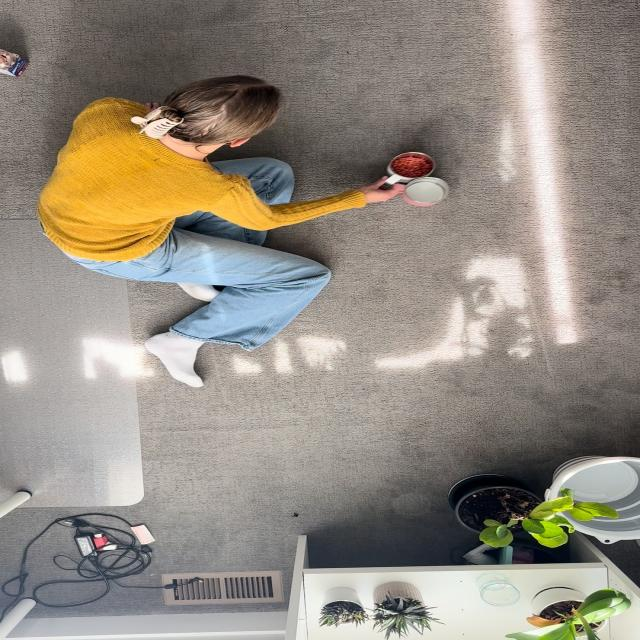IBC: (387, 152, 434, 187), (403, 177, 447, 205)
